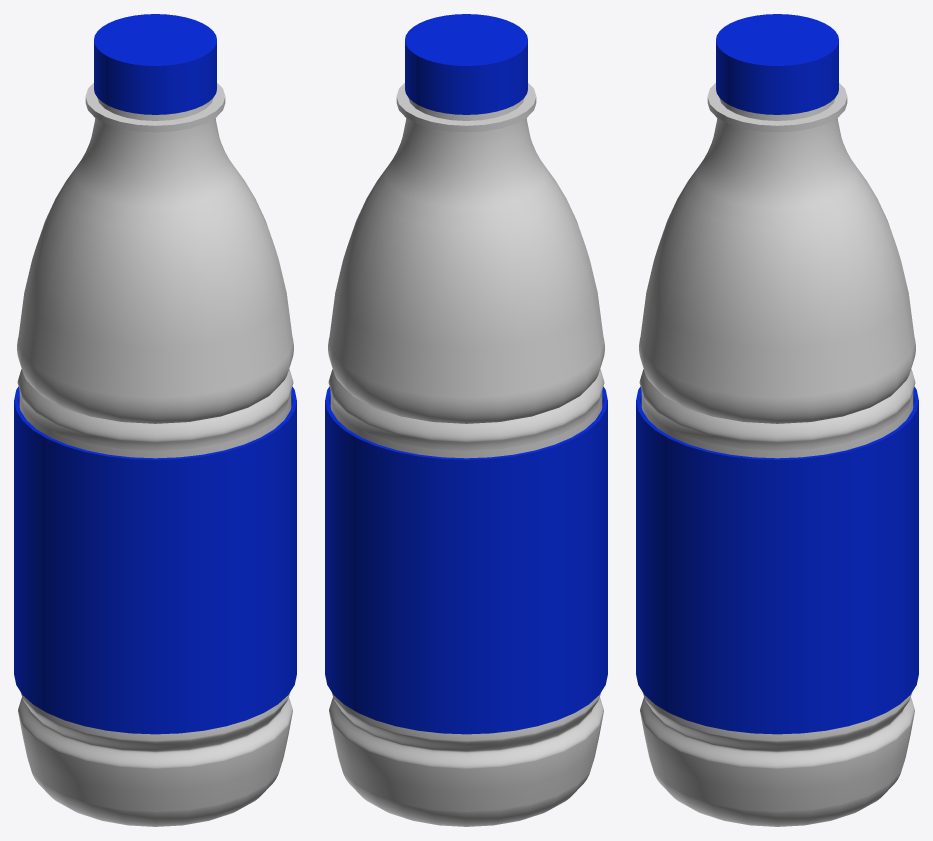
File: plastic_bottle.glb
3 views of the same model, side by side, from view 1: azimuth 30°, elevation 25°; view 2: azimuth 150°, elevation 25°; view 3: azimuth 270°, elevation 25° (orthographic).
Visible parts, largest first — view 1: Lathe, Tube, Cylinder; view 2: Lathe, Tube, Cylinder; view 3: Lathe, Tube, Cylinder.
Boxes of the visible parts, x1=… form: Lathe: x1=17, y1=83, x2=293, y2=826; Tube: x1=14, y1=386, x2=296, y2=734; Cylinder: x1=94, y1=14, x2=216, y2=114; Lathe: x1=328, y1=83, x2=604, y2=826; Tube: x1=325, y1=386, x2=607, y2=734; Cylinder: x1=405, y1=14, x2=527, y2=114; Lathe: x1=639, y1=83, x2=915, y2=826; Tube: x1=636, y1=386, x2=918, y2=734; Cylinder: x1=716, y1=14, x2=838, y2=114.
Bounding box in the file's own units: 64.02 × 189 × 64.02.
